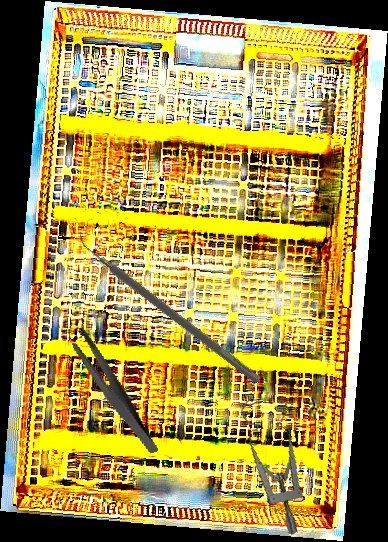Dressing Forceps: (68, 316, 159, 467)
Spatula Surgical: (71, 229, 268, 385)
Speculum: (220, 391, 322, 537)
